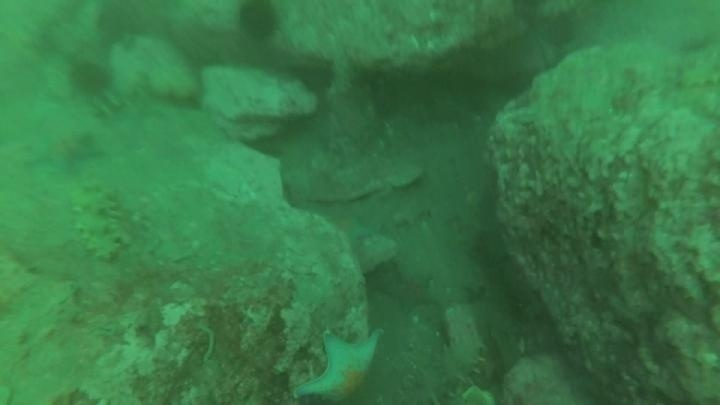echinus: (94, 1, 155, 46), (235, 2, 282, 43), (67, 58, 115, 98), (542, 12, 580, 50)
holothurian: (402, 307, 490, 405), (69, 181, 126, 264)
starfish: (290, 328, 387, 403), (24, 128, 106, 177), (383, 265, 438, 316)
